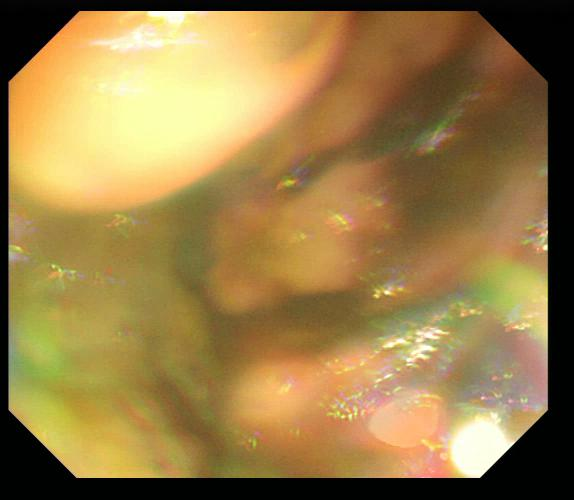polyp: (7, 7, 353, 213)
